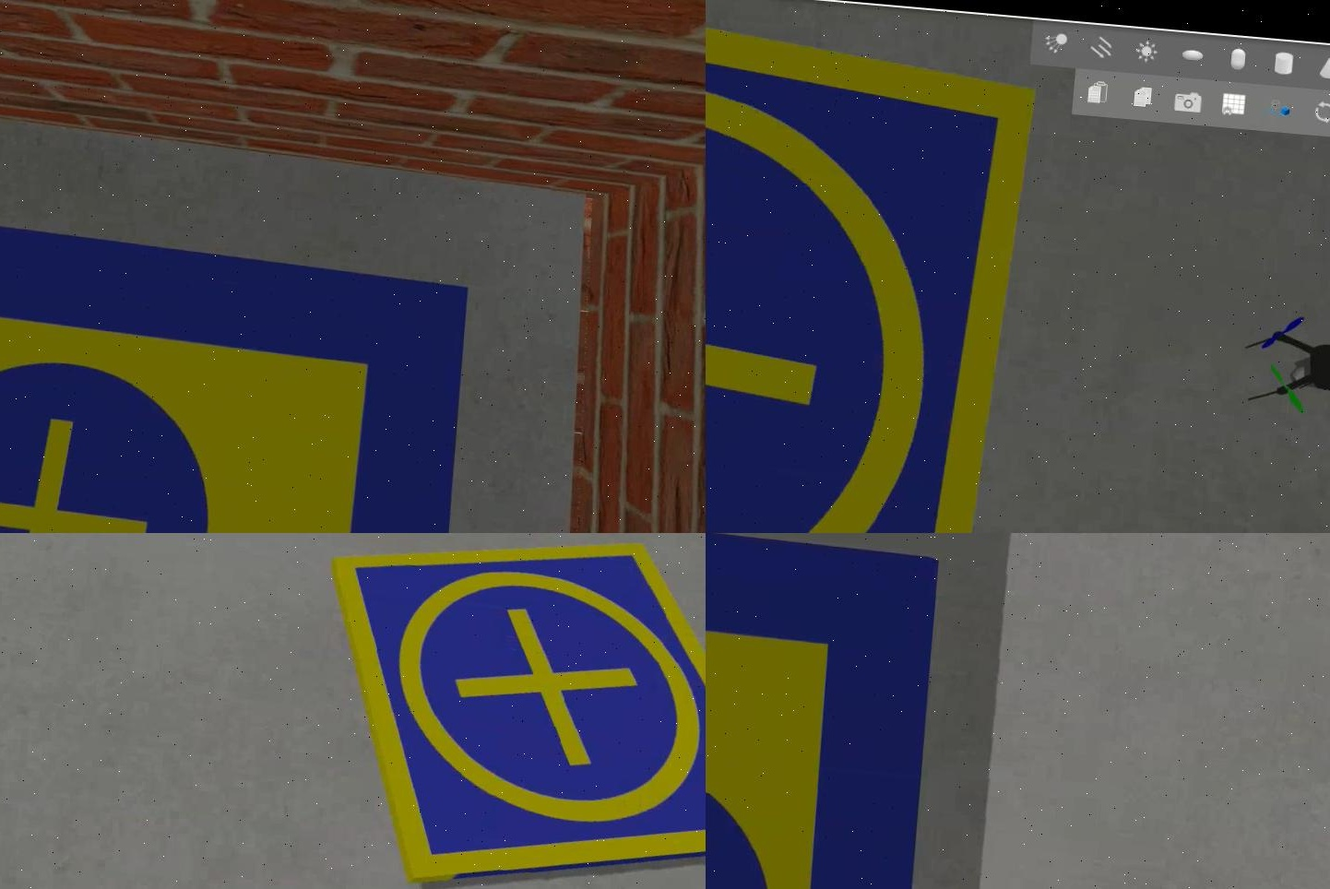large_base: (0, 184, 476, 534), (705, 534, 941, 889)
small_base: (705, 1, 1041, 534), (297, 534, 705, 889)
